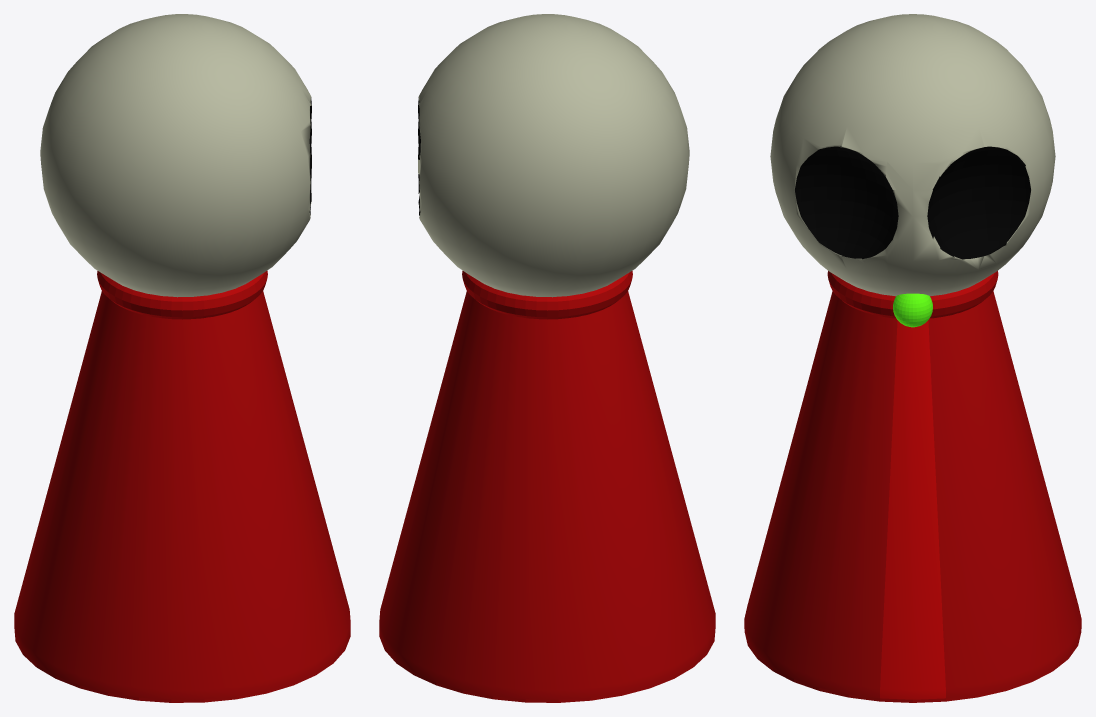
Rendered from Lil_Guy.glb.
The picture shows the model from 3 angles, left to right: view 1: azimuth 30°, elevation 25°; view 2: azimuth 150°, elevation 25°; view 3: azimuth 270°, elevation 25°; orthographic projection.
Parts seen in each view (by area): view 1: Circle, Sphere; view 2: Circle, Sphere; view 3: Circle, Sphere.
Boxes of the visible parts, x1=… form: Circle: x1=14, y1=271, x2=350, y2=702; Sphere: x1=40, y1=14, x2=311, y2=297; Circle: x1=379, y1=271, x2=715, y2=702; Sphere: x1=418, y1=14, x2=689, y2=297; Circle: x1=744, y1=271, x2=1081, y2=702; Sphere: x1=770, y1=14, x2=1055, y2=296.
Size of the model in its own units: 0.946 by 1.87 by 0.946.
